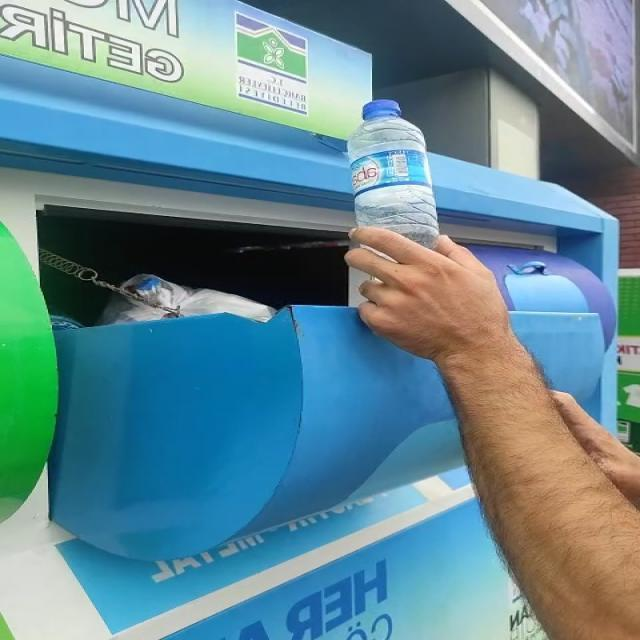Plastic: (348, 100, 429, 178), (356, 185, 439, 244)
